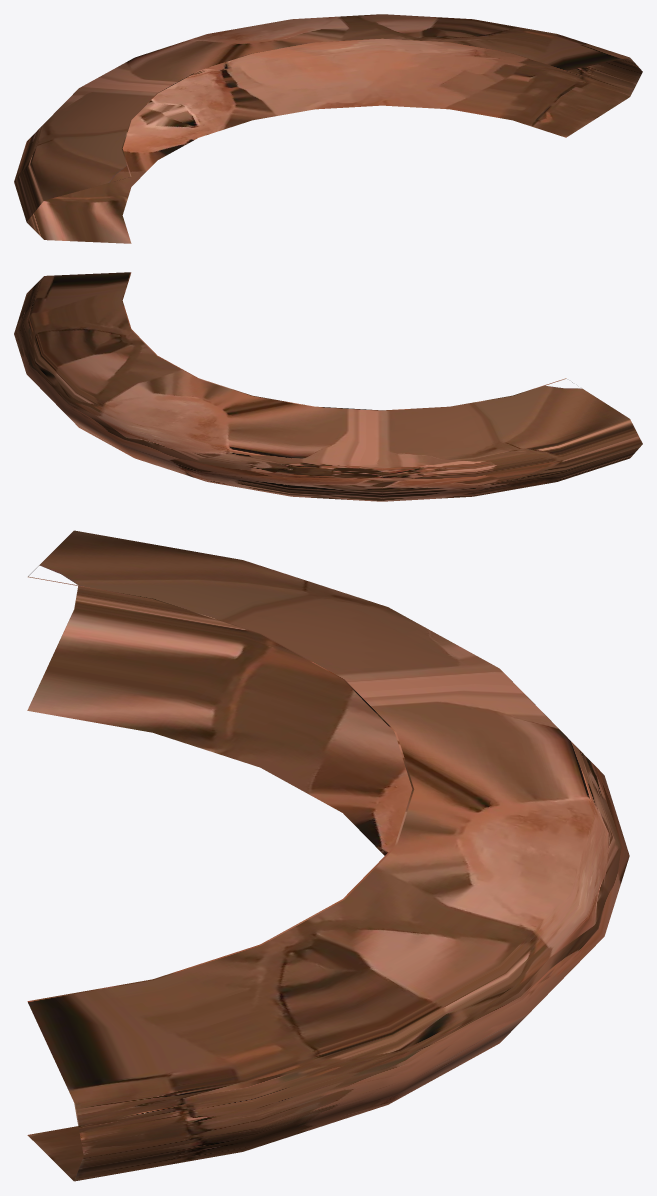
3 views of the same model, one above another, from view 1: azimuth 30°, elevation 25°; view 2: azimuth 150°, elevation 25°; view 3: azimuth 270°, elevation 25° (orthographic). The views are drawn at different scales.
Parts seen in each view (by area): view 1: SM_Amulet_Mould_01_LOD0; view 2: SM_Amulet_Mould_01_LOD0; view 3: SM_Amulet_Mould_01_LOD0.
Part boxes in pixels (box(x1,y1,x2,y2)): SM_Amulet_Mould_01_LOD0: box(14, 14, 642, 243); SM_Amulet_Mould_01_LOD0: box(14, 272, 642, 501); SM_Amulet_Mould_01_LOD0: box(27, 530, 629, 1181).
Bounding box in the file's own units: 3.93 × 0.407 × 1.66.
